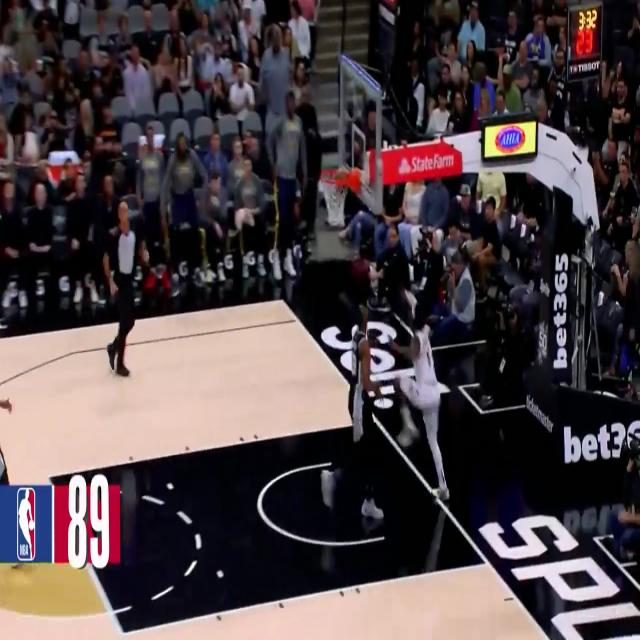Right Bottom Left Paint: (114, 622, 132, 640)
Right Bottom Right Paint: (470, 537, 507, 590)
Right Corner: (268, 272, 298, 324)
Right Top Left Paint: (31, 448, 66, 504)
Right Top Right Paint: (358, 391, 394, 449)
